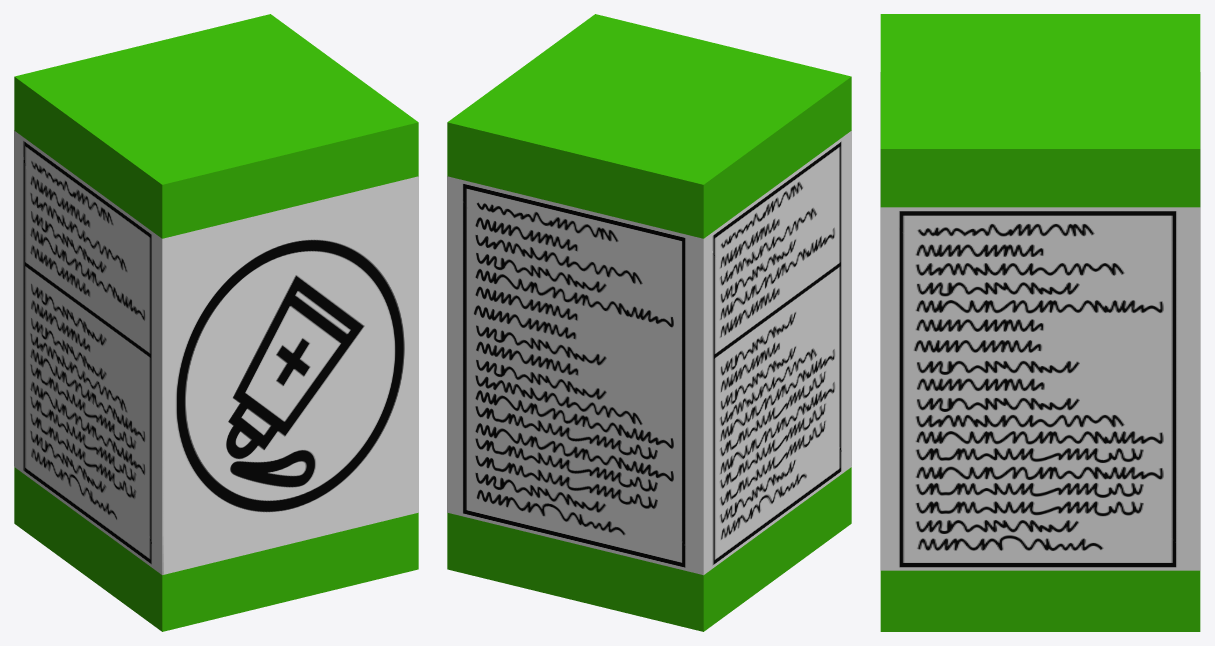
Rendered from healingOintmentOTC.fbx.
3 views of the same model, side by side, from view 1: azimuth 30°, elevation 25°; view 2: azimuth 150°, elevation 25°; view 3: azimuth 270°, elevation 25° (orthographic). The views are drawn at different scales.
Visible parts, largest first — view 1: healingOintmentLabel, firstAidBox; view 2: healingOintmentLabel, firstAidBox; view 3: healingOintmentLabel, firstAidBox.
Boxes of the visible parts, x1=… form: healingOintmentLabel: x1=14, y1=130, x2=418, y2=574; firstAidBox: x1=14, y1=14, x2=418, y2=631; healingOintmentLabel: x1=447, y1=130, x2=851, y2=575; firstAidBox: x1=447, y1=14, x2=851, y2=631; healingOintmentLabel: x1=880, y1=72, x2=1200, y2=570; firstAidBox: x1=880, y1=14, x2=1200, y2=631.
Bounding box in the file's own units: 12.01 × 20 × 12.01.
